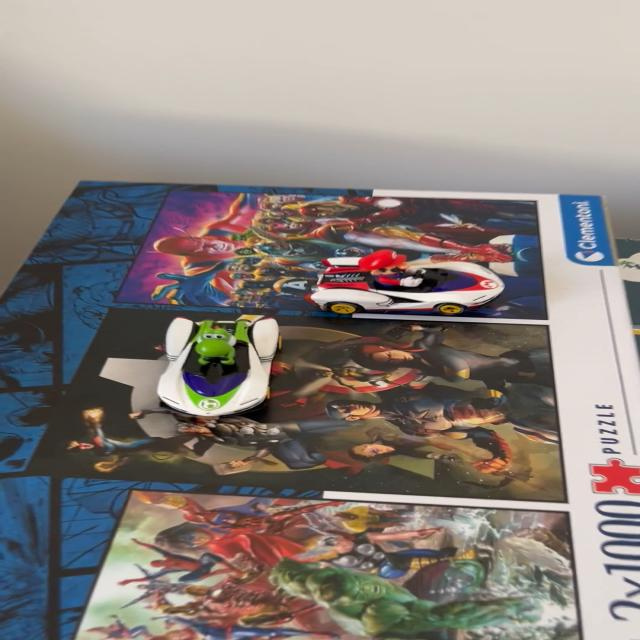mario: (316, 247, 524, 321)
yoshi: (146, 308, 287, 425)
